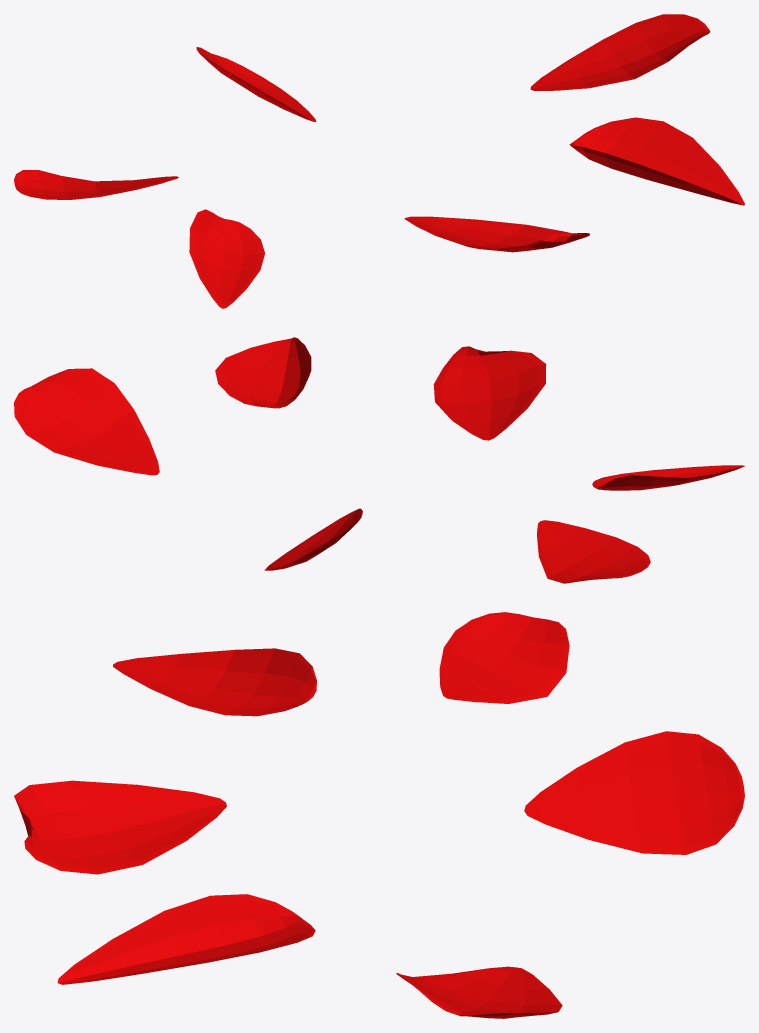
Rendered from rose_2_normal.fbx.
3 renders of one model, top to bottom at view 1: azimuth 30°, elevation 25°; view 2: azimuth 150°, elevation 25°; view 3: azimuth 270°, elevation 25°, orthographic. The views are drawn at different scales.
Parts seen in each view (by area): view 1: rose_2_normal; view 2: rose_2_normal; view 3: rose_2_normal.
Boxes of the visible parts, x1=… form: rose_2_normal: x1=14, y1=14, x2=744, y2=308; rose_2_normal: x1=14, y1=337, x2=744, y2=583; rose_2_normal: x1=14, y1=612, x2=744, y2=1018.
Bounding box in the file's own units: 10.62 × 0.8507 × 7.77.
